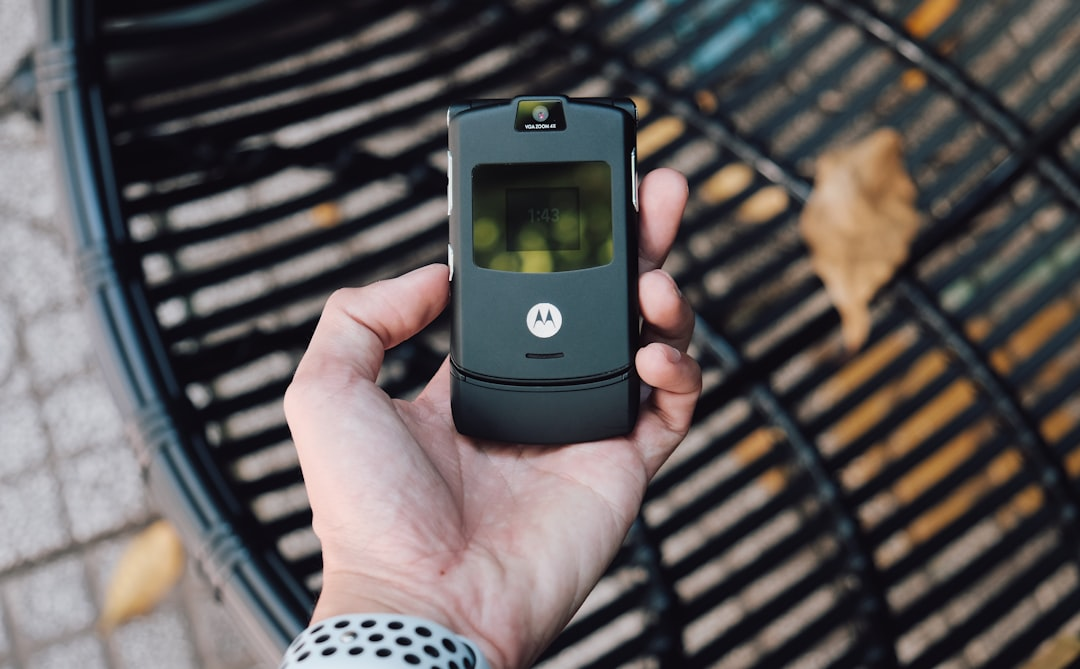phone: (441, 95, 647, 444)
